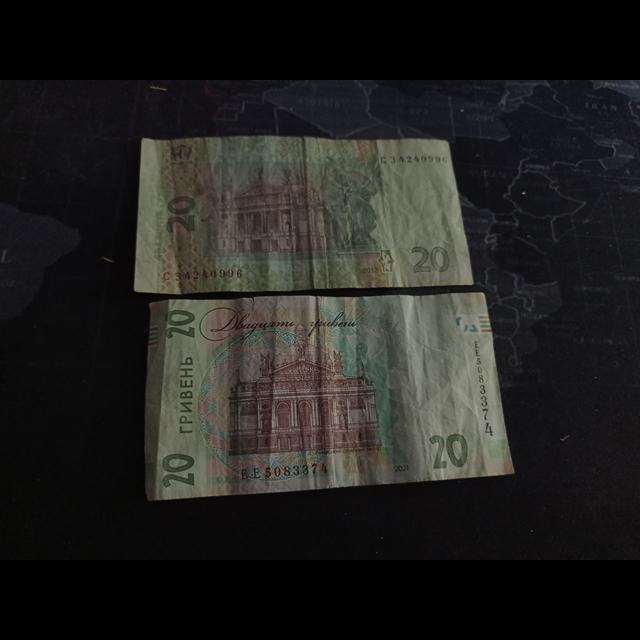20uah: (148, 294, 515, 504), (135, 137, 475, 293)
